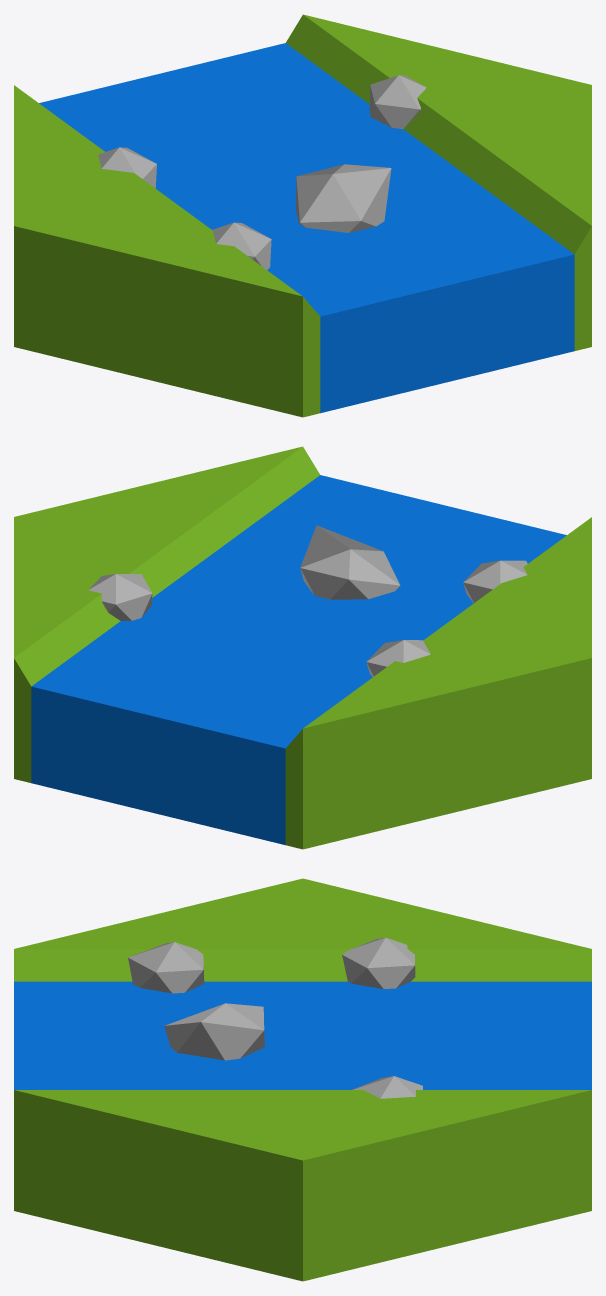
Rendered from Rio.fbx.
3 renders of one model, top to bottom at view 1: azimuth 30°, elevation 25°; view 2: azimuth 150°, elevation 25°; view 3: azimuth 270°, elevation 25°, orthographic.
Visible parts, largest first — view 1: Rio; view 2: Rio; view 3: Rio.
Part boxes in pixels (x1=…): Rio: x1=14, y1=14, x2=591, y2=417; Rio: x1=14, y1=446, x2=591, y2=849; Rio: x1=14, y1=878, x2=591, y2=1281.
Size of the model in its own units: 200 by 45.22 by 173.
